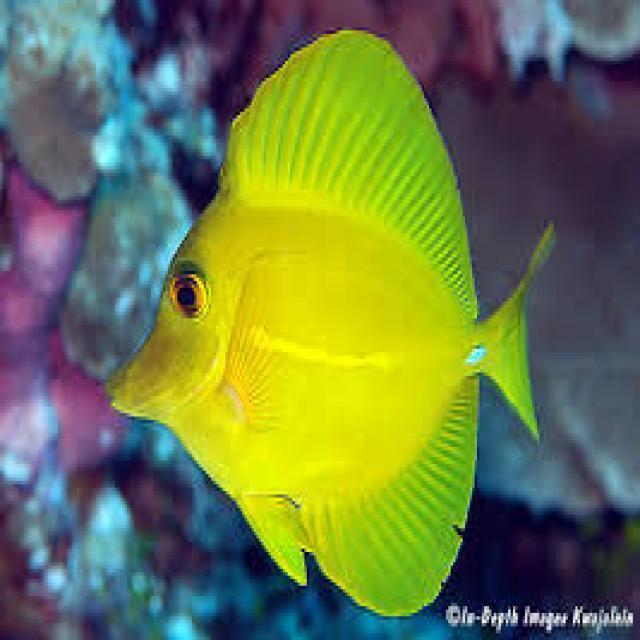TangFish: (106, 30, 555, 620)
